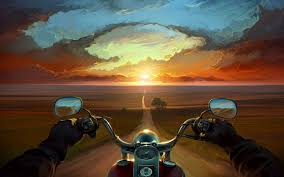motorcycle: (47, 95, 248, 177)
